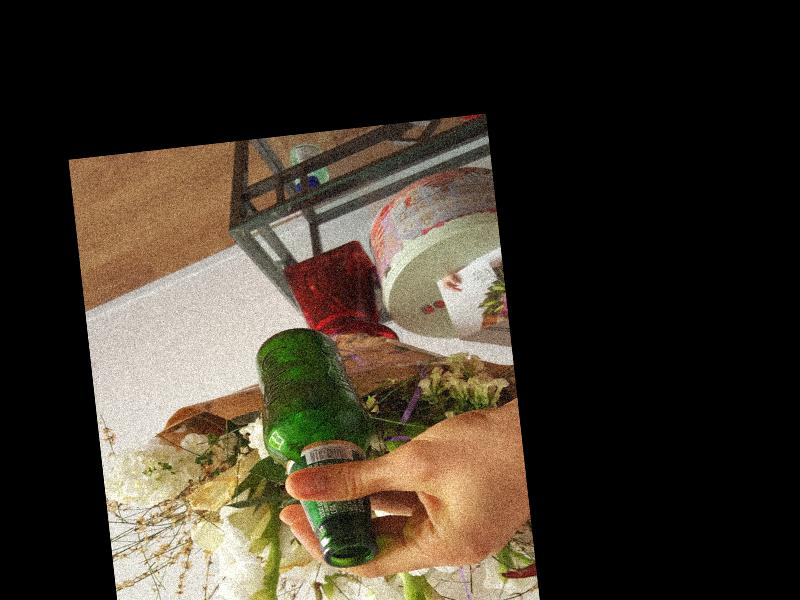Beer: (250, 320, 385, 573)
